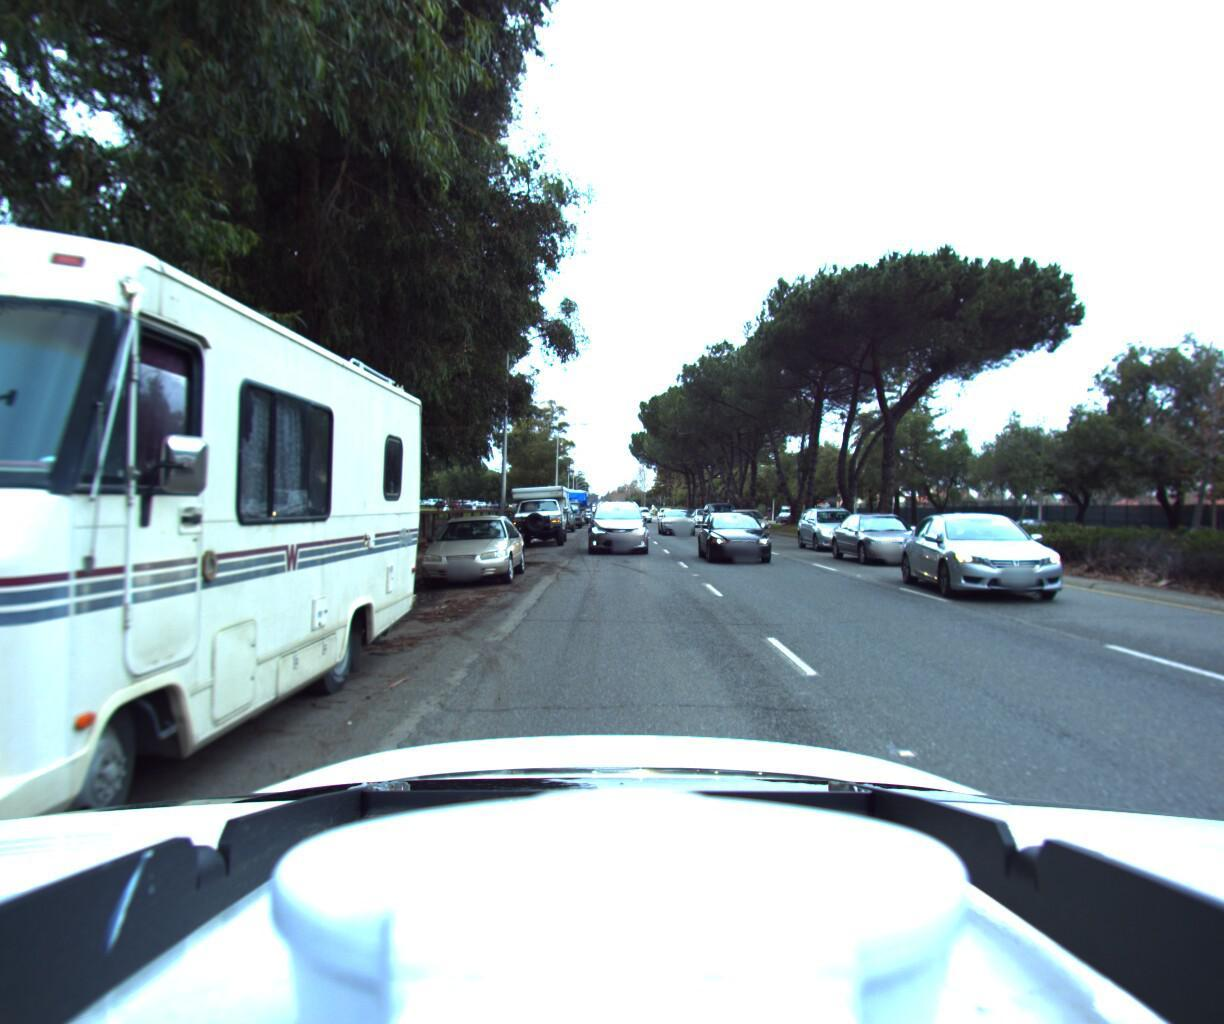car: (895, 513, 1081, 608), (410, 511, 531, 598), (822, 506, 944, 574), (699, 511, 789, 570), (792, 503, 878, 555), (582, 493, 653, 553), (721, 505, 775, 538), (662, 506, 701, 538), (550, 497, 582, 531), (688, 502, 718, 528), (635, 506, 655, 523)
other_vehicle: (499, 481, 573, 551), (549, 487, 586, 527), (559, 489, 592, 525)
